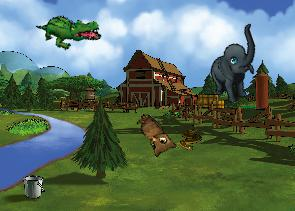crocodile: (35, 4, 103, 57)
elephant: (198, 23, 273, 107)
owl: (126, 111, 180, 162)
